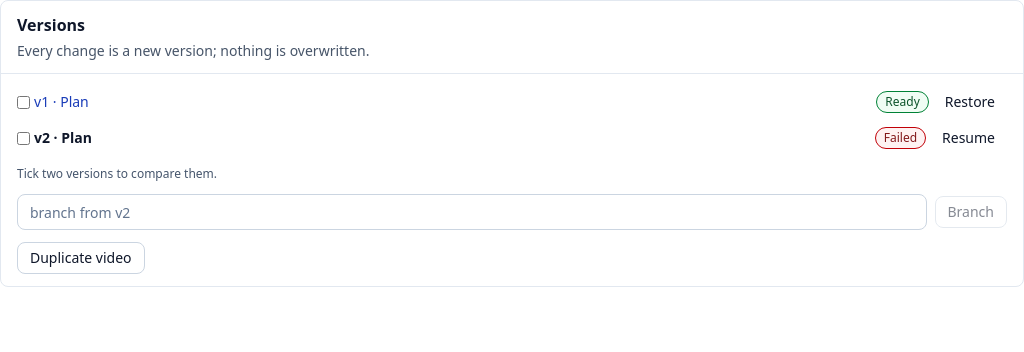
Test: VersionsPanel › drops an earlier action's error once another action is started (D21)
This screenshot has width=1024, height=352.
Click the button "Resume" at [968, 138], box left=930, top=122, right=1007, bottom=154
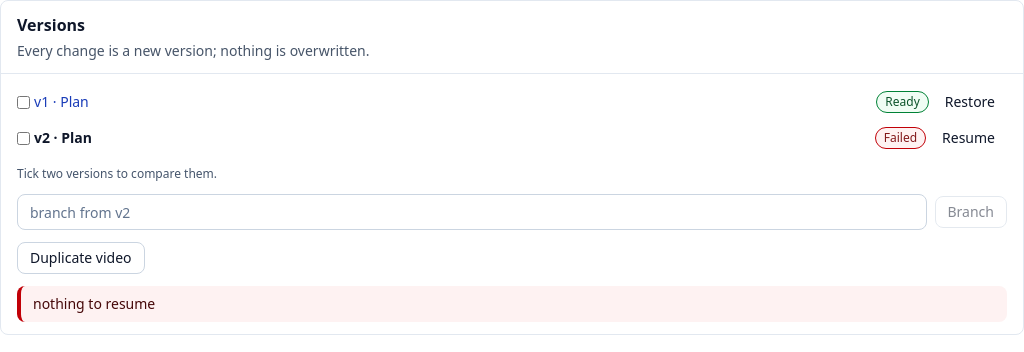
Check: the text "nothing to resume" is shown, box left=17, top=286, right=1007, bottom=322
Click the button "Restore" at [970, 102], box left=933, top=86, right=1007, bottom=118
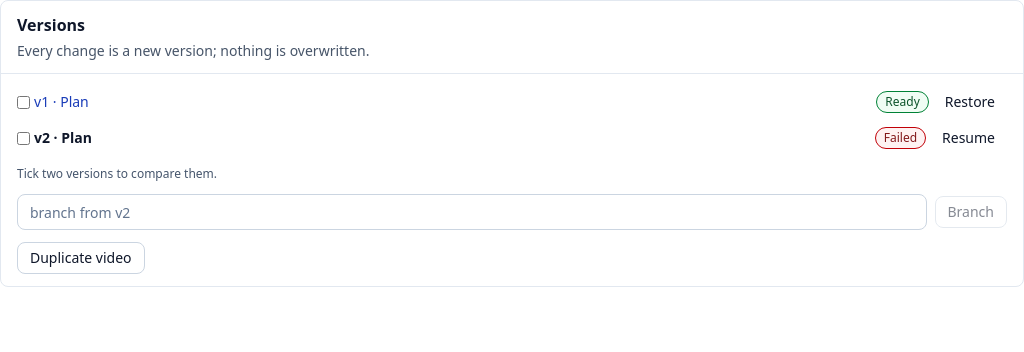
Check: the text "nothing to resume" is gone
